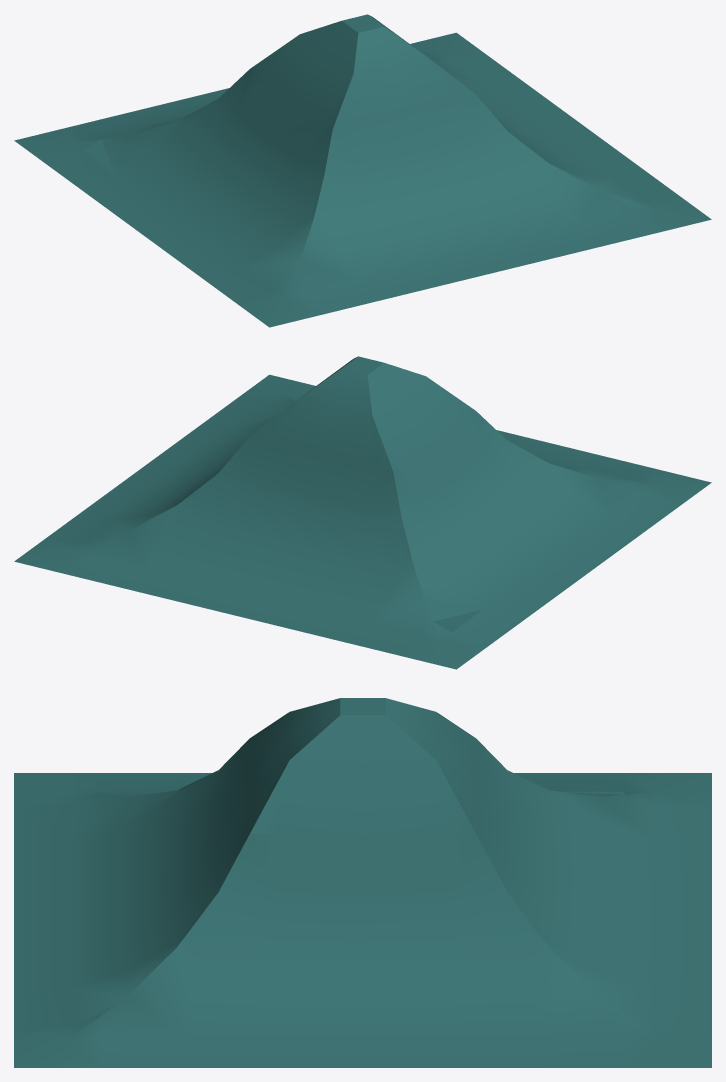
Rendered from Trawler_Over_Mesh.fbx.
3 renders of one model, top to bottom at view 1: azimuth 30°, elevation 25°; view 2: azimuth 150°, elevation 25°; view 3: azimuth 270°, elevation 25°, orthographic. The views are drawn at different scales.
Parts seen in each view (by area): view 1: Body; view 2: Body; view 3: Body.
Boxes of the visible parts, x1,y1,x2,y2 form: Body: (14, 14, 711, 327); Body: (14, 356, 711, 669); Body: (14, 698, 711, 1067).
Bounding box in the file's own units: 800 × 800 × 270.
